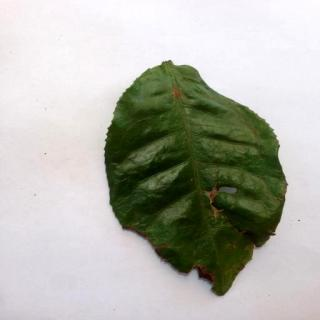Algal Leaf: (105, 59, 287, 293)
